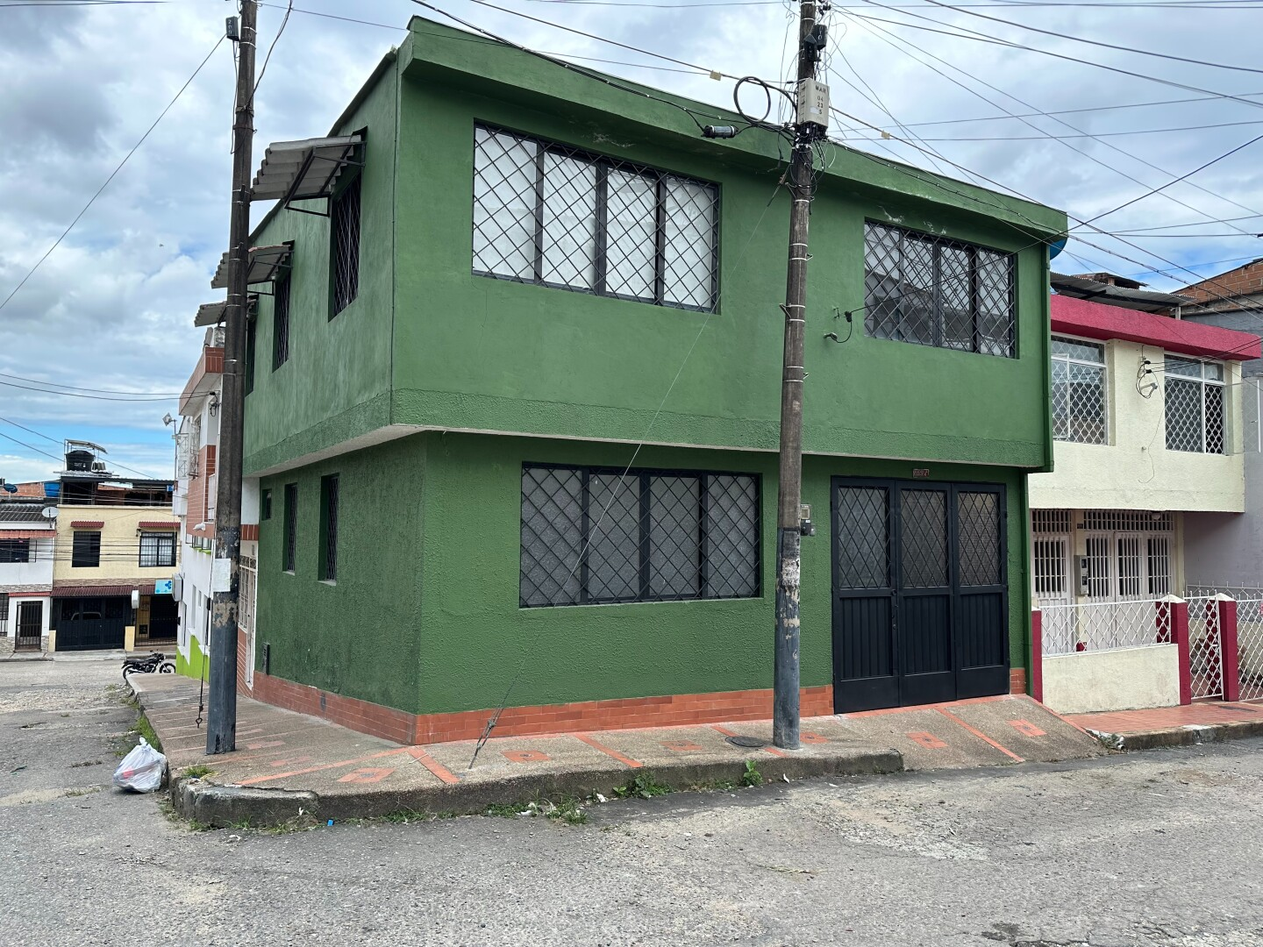House: (196, 25, 1026, 705), (1044, 276, 1257, 689), (54, 459, 182, 658)
